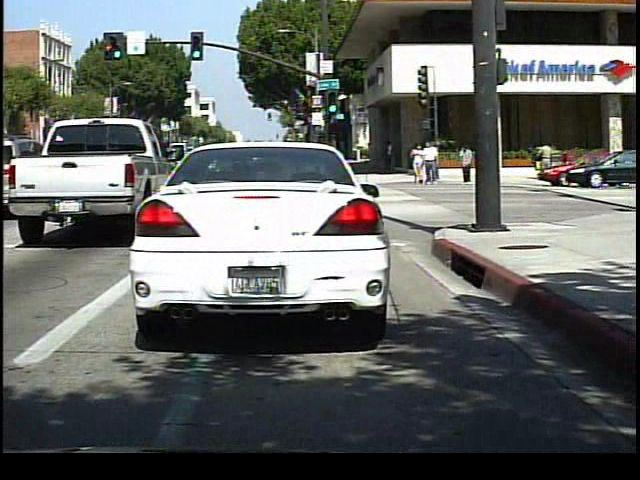person: (422, 138, 442, 187), (534, 138, 555, 182), (457, 141, 475, 186), (410, 142, 426, 187)
